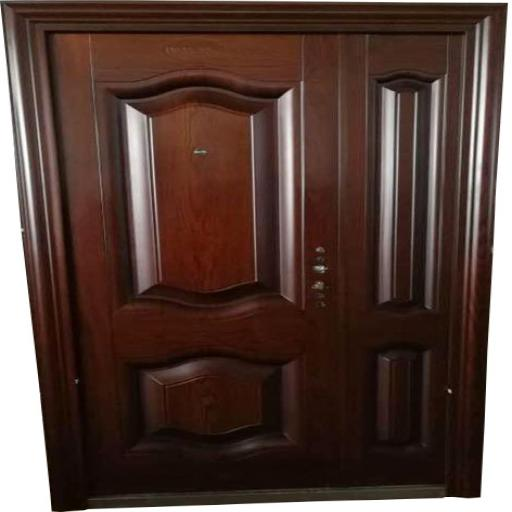Door: (1, 0, 507, 512)
